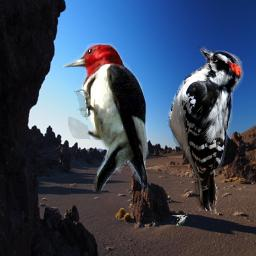Swallow: (170, 214, 188, 228)
Woodpecker: (61, 43, 150, 192), (167, 46, 245, 211)
